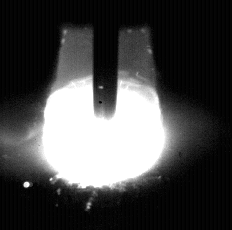arame: (94, 0, 119, 120)
poca: (41, 0, 166, 230)
